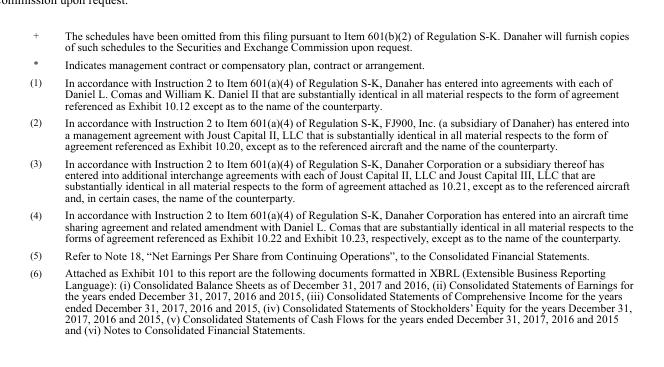table: (29, 28, 632, 335)
table column: (52, 28, 632, 335), (29, 28, 52, 335)
table row: (29, 263, 632, 335), (29, 153, 632, 205), (29, 205, 632, 246), (29, 73, 632, 113), (29, 113, 632, 153), (29, 28, 632, 55), (29, 55, 632, 73), (29, 246, 632, 263)
